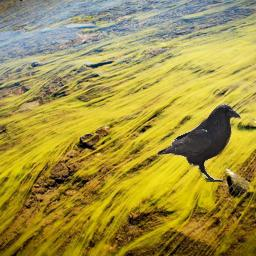Crow: (156, 103, 241, 182)
